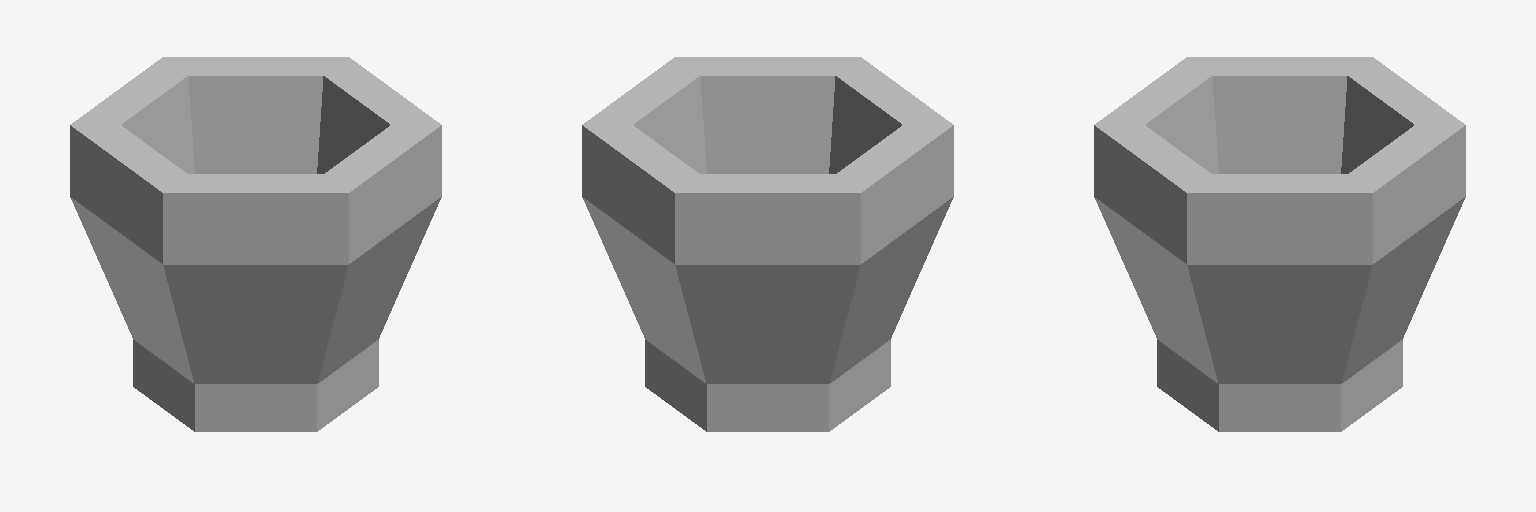
Rendered from ice-cream-cup.obj.
3 views of the same model, side by side, from view 1: azimuth 30°, elevation 25°; view 2: azimuth 150°, elevation 25°; view 3: azimuth 270°, elevation 25° (orthographic).
Visible parts, largest first — view 1: ice-cream-cup; view 2: ice-cream-cup; view 3: ice-cream-cup.
Part boxes in pixels (left/top/right/bottom): ice-cream-cup: left=70, top=57, right=441, bottom=431; ice-cream-cup: left=582, top=57, right=953, bottom=431; ice-cream-cup: left=1094, top=57, right=1465, bottom=431.
Bounding box in the file's own units: 0.2011 × 0.1804 × 0.2322.